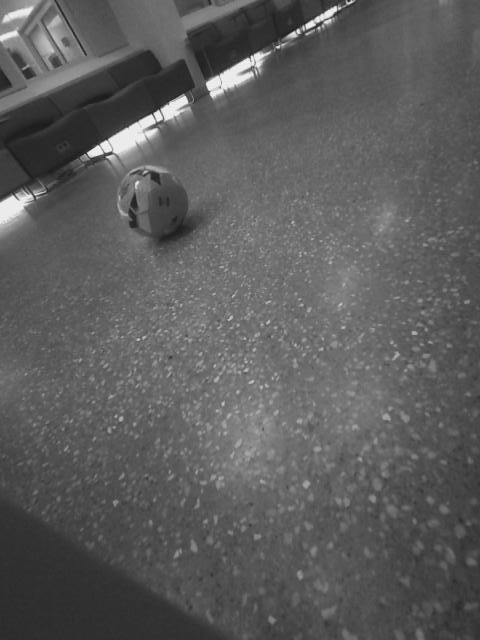ball: (108, 159, 201, 241)
